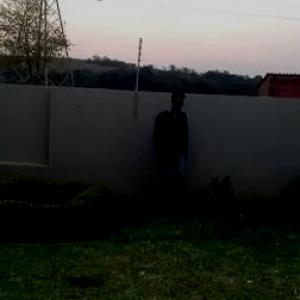follow: (150, 88, 187, 212)
